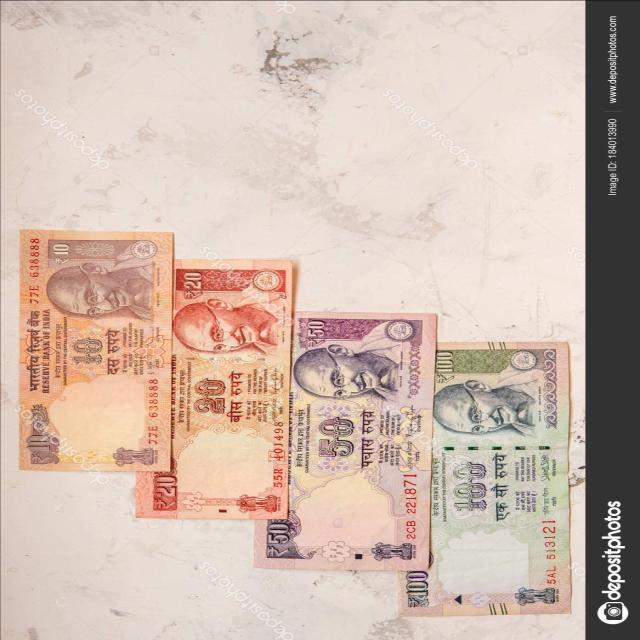50IndianRupees: (257, 314, 434, 572)
